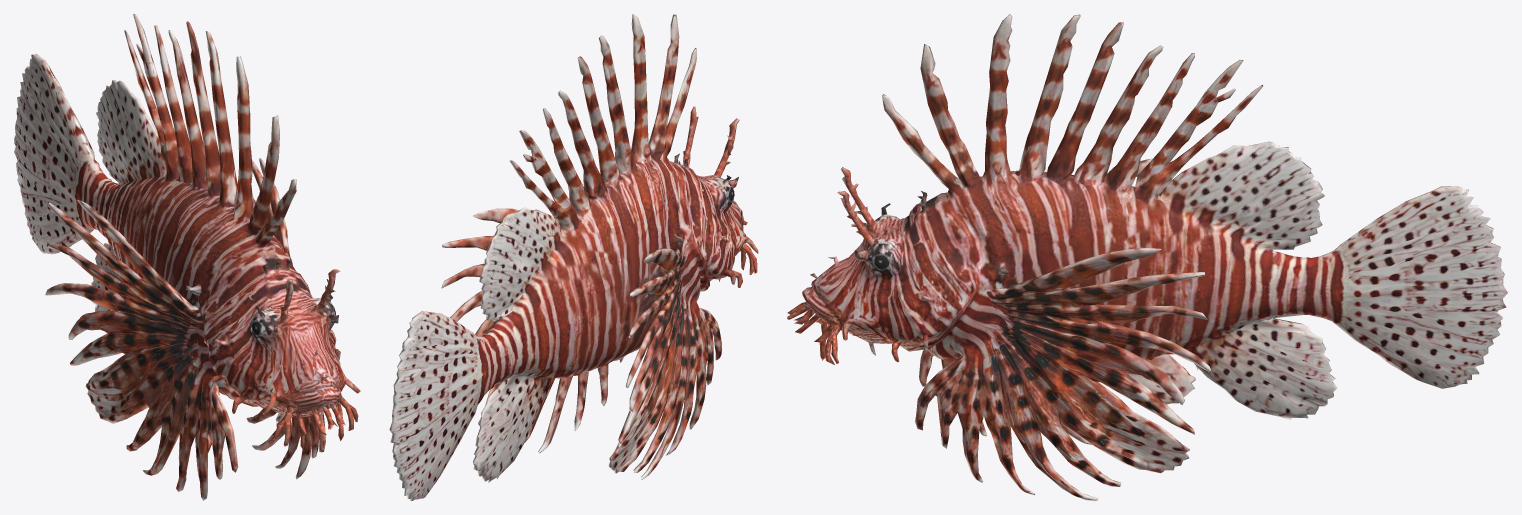
File: lionfish.glb
The picture shows the model from 3 angles, left to right: view 1: azimuth 30°, elevation 25°; view 2: azimuth 150°, elevation 25°; view 3: azimuth 270°, elevation 25°; orthographic projection. The views are drawn at different scales.
Visible parts, largest first — view 1: tripo_node_a7213b01-91c7-41d1-b666-b1cada78b1a9; view 2: tripo_node_a7213b01-91c7-41d1-b666-b1cada78b1a9; view 3: tripo_node_a7213b01-91c7-41d1-b666-b1cada78b1a9.
Boxes of the visible parts, x1=… form: tripo_node_a7213b01-91c7-41d1-b666-b1cada78b1a9: x1=14, y1=14, x2=360, y2=500; tripo_node_a7213b01-91c7-41d1-b666-b1cada78b1a9: x1=389, y1=14, x2=758, y2=500; tripo_node_a7213b01-91c7-41d1-b666-b1cada78b1a9: x1=787, y1=14, x2=1507, y2=500.
Size of the model in its own units: 0.3371 by 0.7015 by 0.9996.
1 material, 1 textured.
